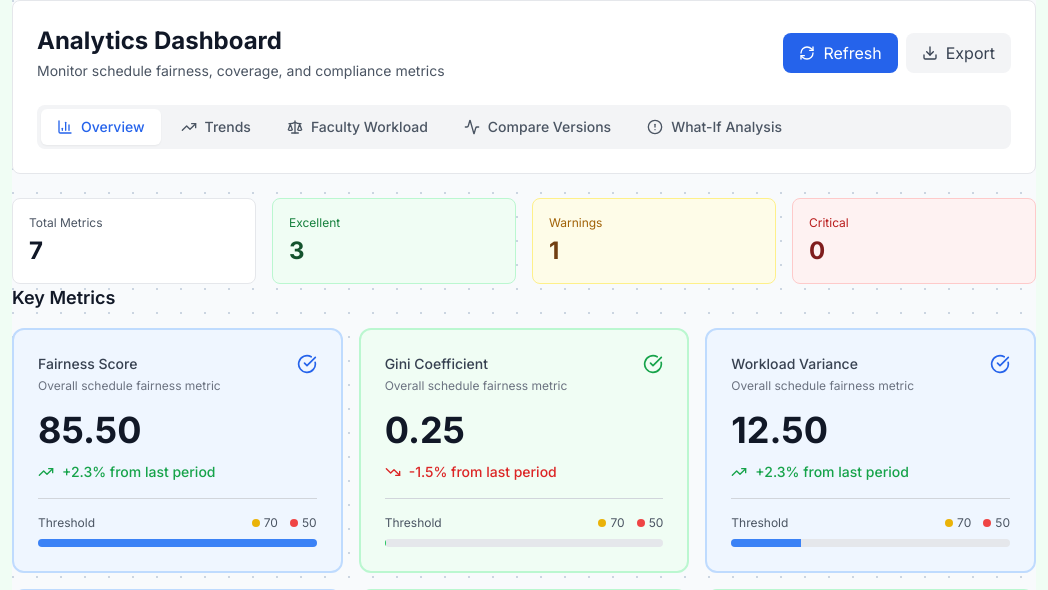
AnalyticsDashboard › Refresh Functionality › should show loading state when refreshing
The width and height of the screenshot is (1048, 590).
Expected: the text "Refresh" is shown, [823,41,882,65]
# Get the button element (not just the text node)
Click the button "Refresh" at coordinates (841, 53), box [783,33,898,73]
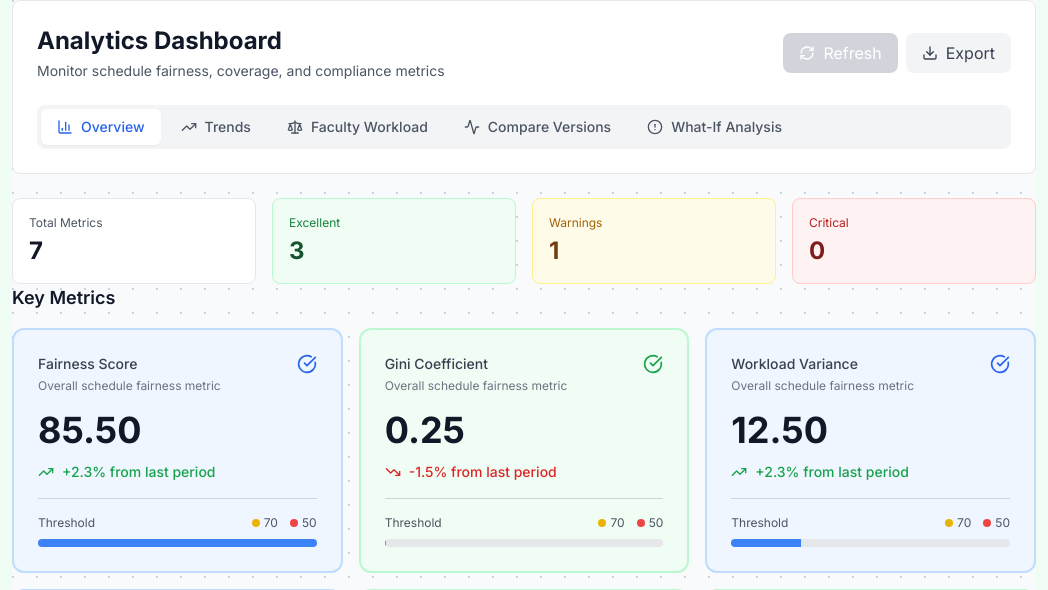
Expected: the button "Refresh" is disabled, [783,33,898,73]
